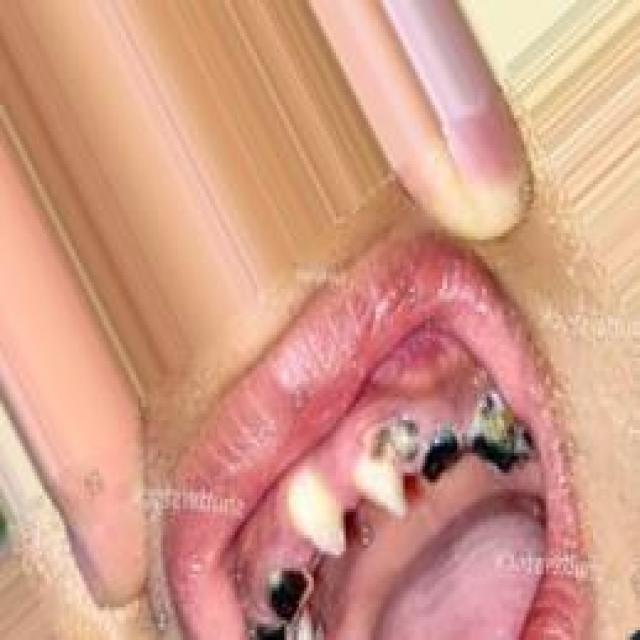caries: (464, 393, 542, 480), (355, 406, 420, 494), (258, 547, 314, 626), (418, 422, 467, 488)
